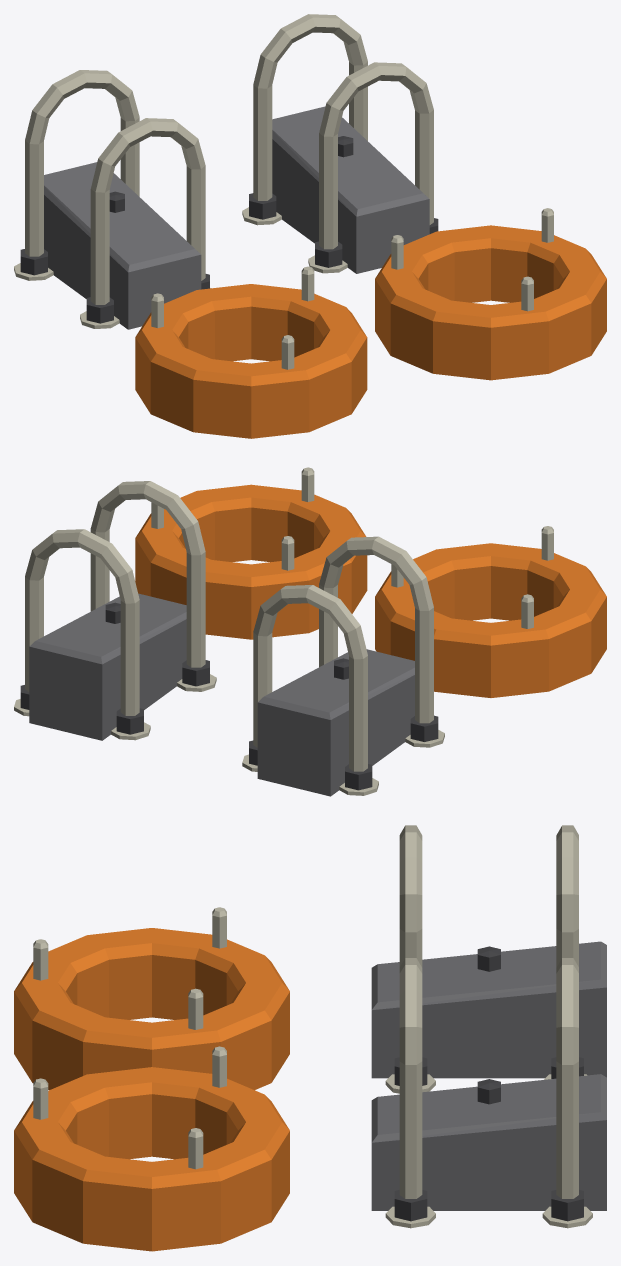
The model's file is item-lift.glb.
3 renders of one model, top to bottom at view 1: azimuth 30°, elevation 25°; view 2: azimuth 150°, elevation 25°; view 3: azimuth 270°, elevation 25°, orthographic. The views are drawn at different scales.
Parts seen in each view (by area): view 1: lift; view 2: lift; view 3: lift.
Boxes of the visible parts, x1,y1,x2,y2 form: lift: (14,14,606,438); lift: (14,467,606,796); lift: (14,825,606,1251).
Size of the model in its own units: 0.386 by 0.1582 by 0.378.
